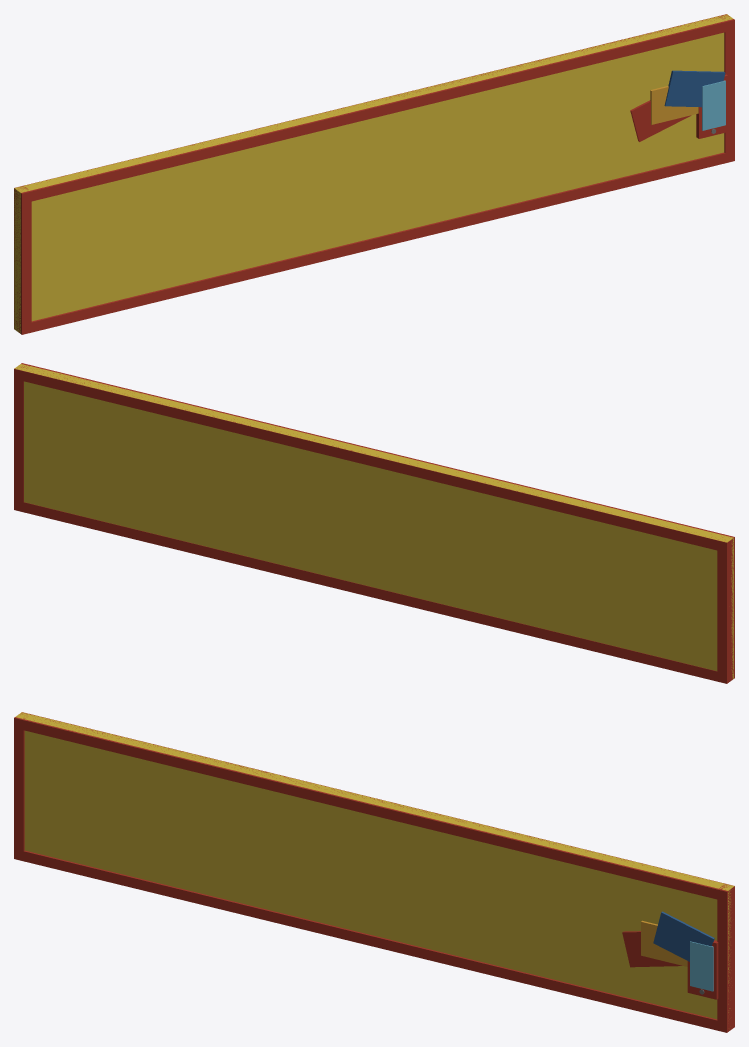
The model's file is bang_dien_thoai_kim_ngan_40.glb.
The picture shows the model from 3 angles, top to bottom: view 1: azimuth 30°, elevation 25°; view 2: azimuth 150°, elevation 25°; view 3: azimuth 330°, elevation 25°; orthographic projection.
Parts seen in each view (by area): view 1: bang_dien_thoai_kim_ngan_40; view 2: bang_dien_thoai_kim_ngan_40; view 3: bang_dien_thoai_kim_ngan_40.
Boxes of the visible parts, bbox=[...] form: bang_dien_thoai_kim_ngan_40: bbox=[14, 14, 734, 334]; bang_dien_thoai_kim_ngan_40: bbox=[14, 363, 734, 683]; bang_dien_thoai_kim_ngan_40: bbox=[14, 712, 734, 1032].
Size of the model in its own units: 3.7 by 0.7 by 0.094.
